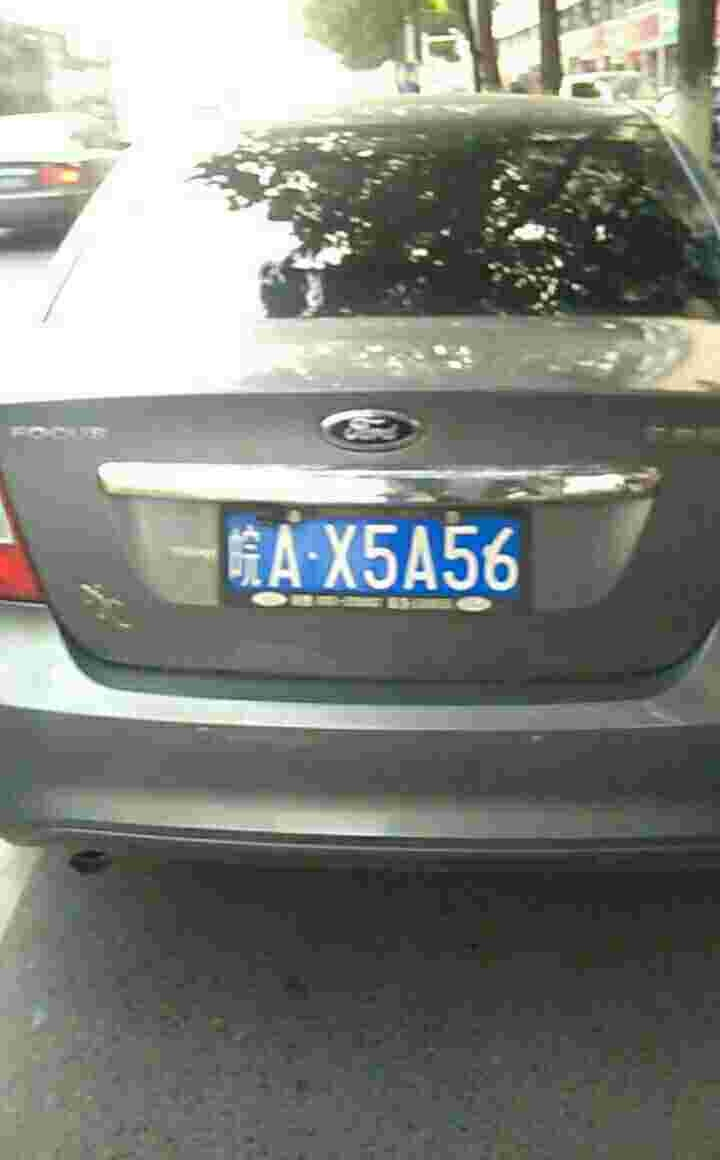license_plate: (221, 511, 516, 599)
